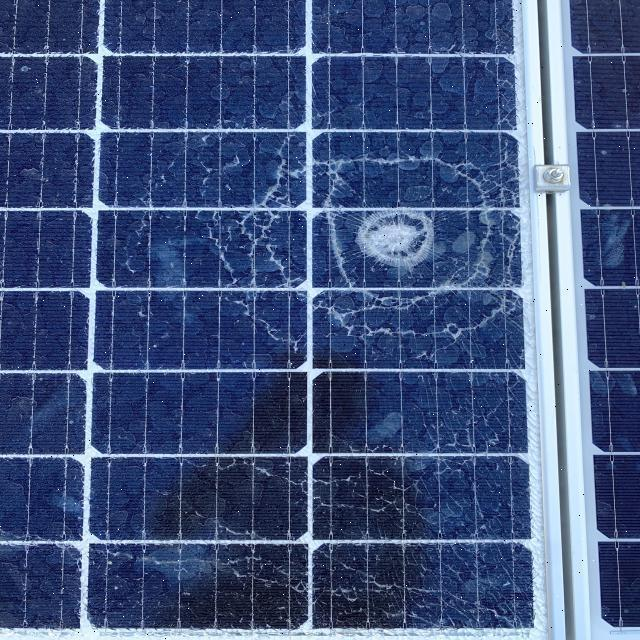Structural Damage: (161, 111, 510, 442), (314, 153, 494, 311), (233, 540, 474, 608), (184, 450, 398, 519), (356, 206, 436, 267), (97, 545, 261, 571)
